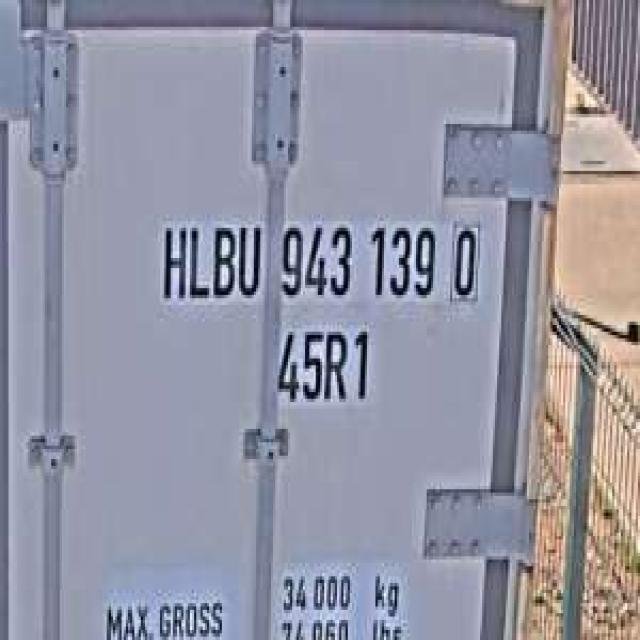dv: (446, 211, 484, 305)
owner: (156, 211, 264, 308)
serial: (275, 208, 440, 305)
size: (271, 315, 373, 409)
